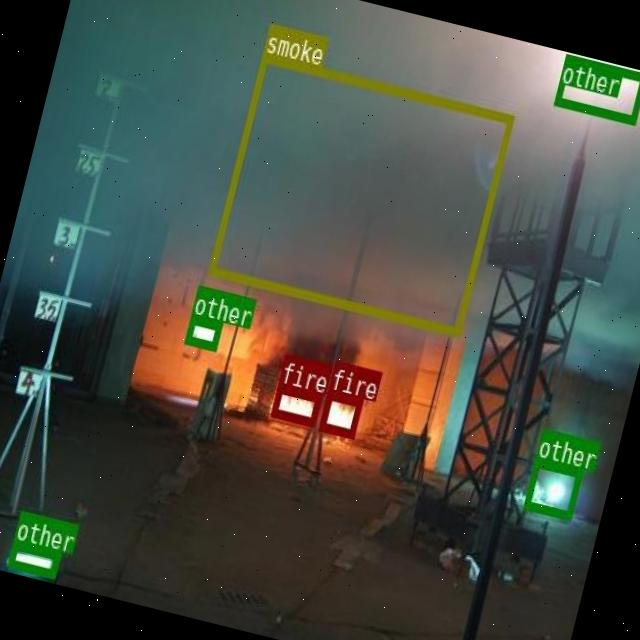fire: (316, 390, 362, 438), (270, 384, 320, 424)
smoke: (208, 51, 514, 335)
